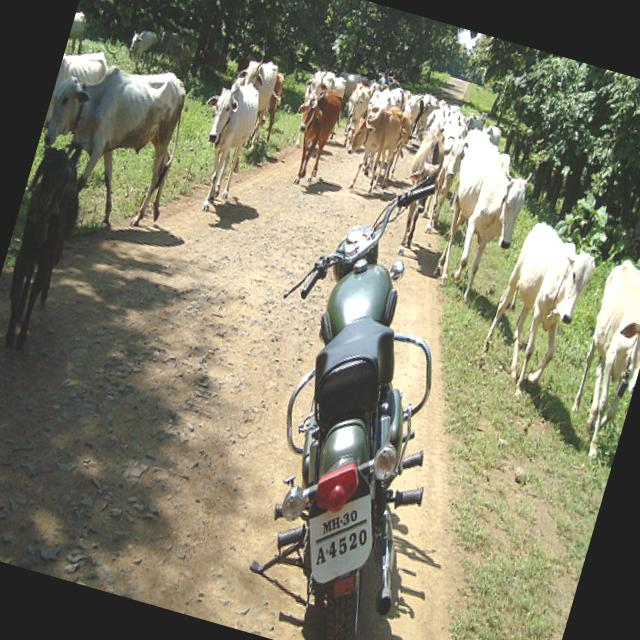Vehicle: (193, 140, 509, 640)
